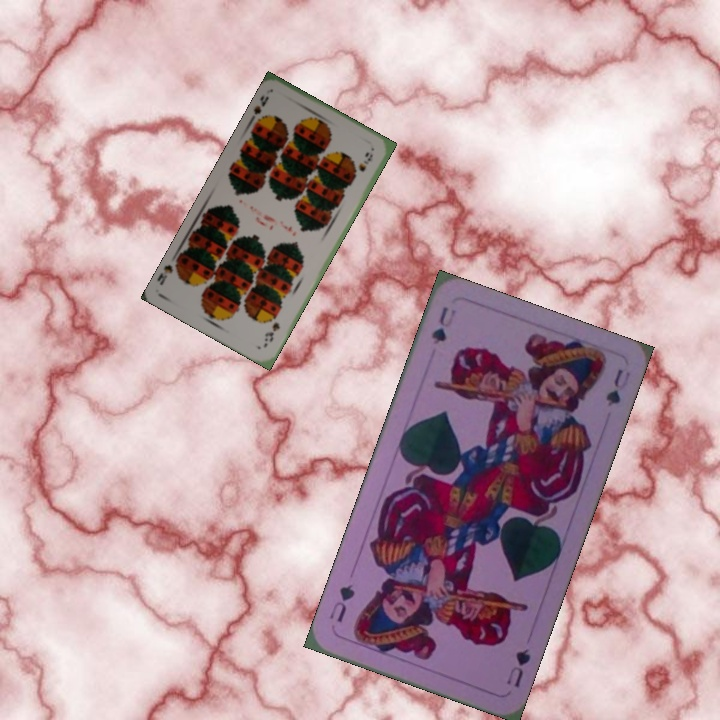GU: (427, 302, 459, 347), (502, 644, 533, 690)
S9: (245, 91, 272, 128), (260, 318, 283, 345)
